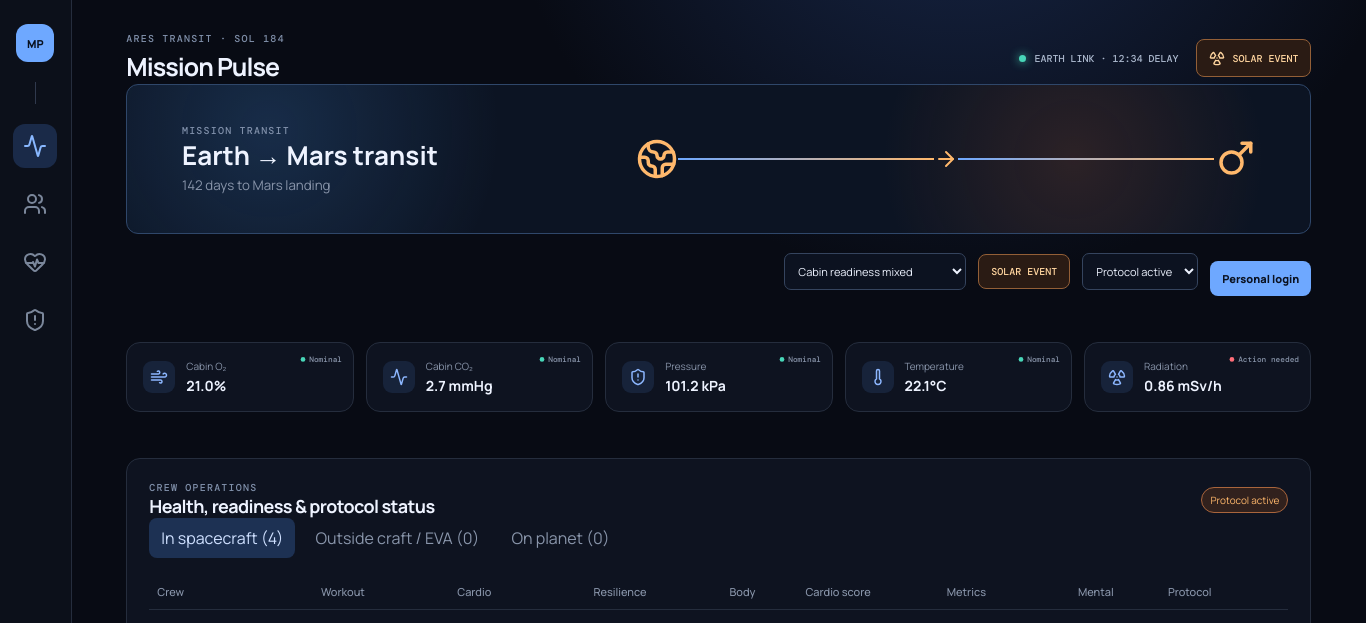
Test: Mission Pulse command centre › requires demo login for the personal workspace
Click the button named "Personal".
click(35, 204)  # box [13, 182, 57, 226]
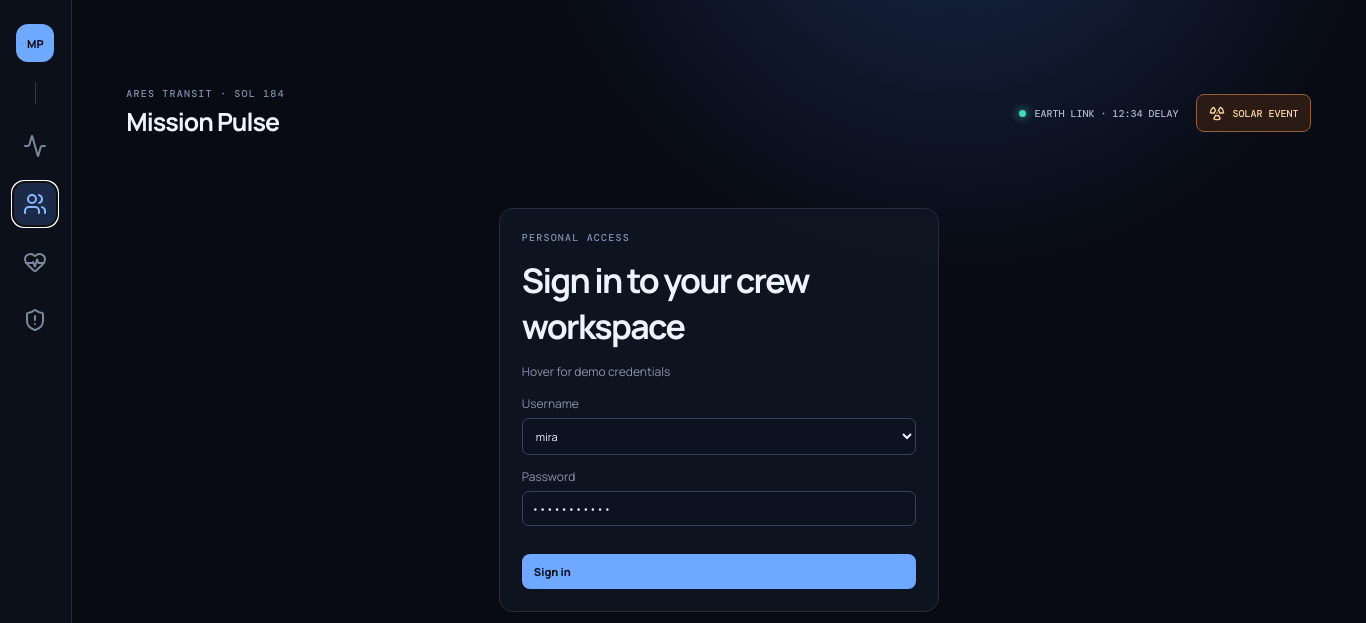
Expected: the heading "Sign in to your crew workspace" is shown, [522, 257, 809, 349]
Click the button "Sign in".
click(552, 571)  # box [522, 554, 916, 589]
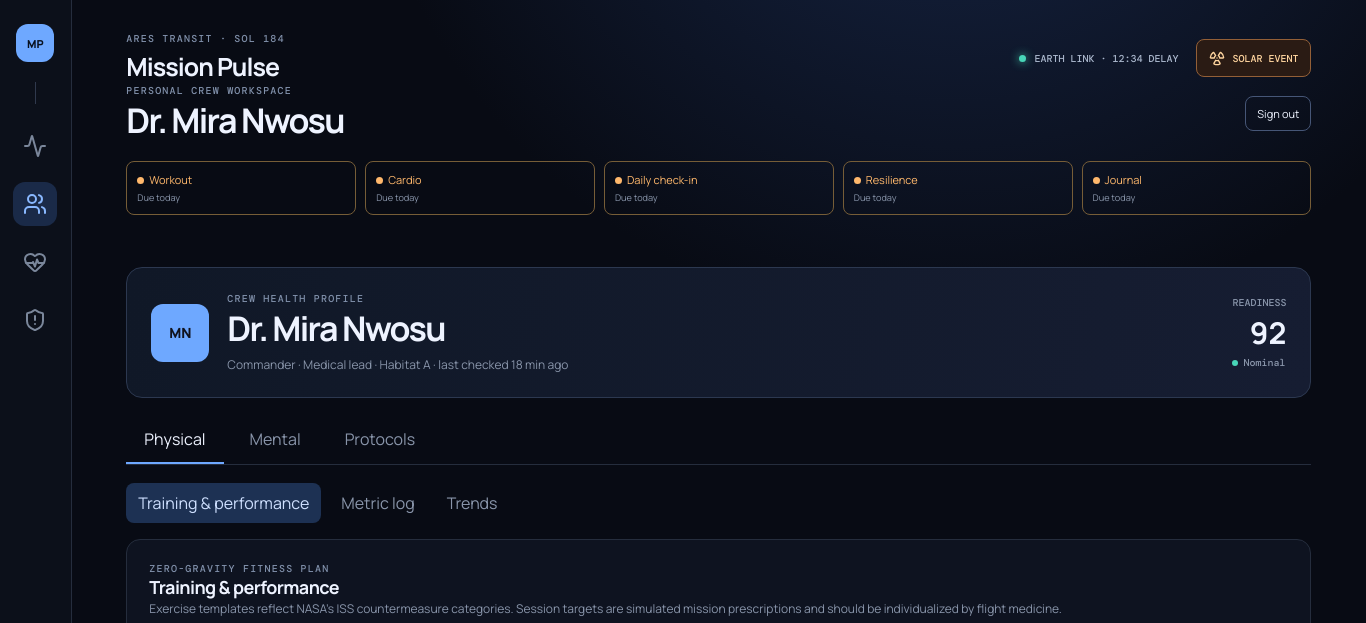
Expected: the text "PERSONAL CREW WORKSPACE" is shown, [126, 84, 292, 97]
Expected: the button "Daily check-in Due today" is shown, [604, 161, 834, 215]
